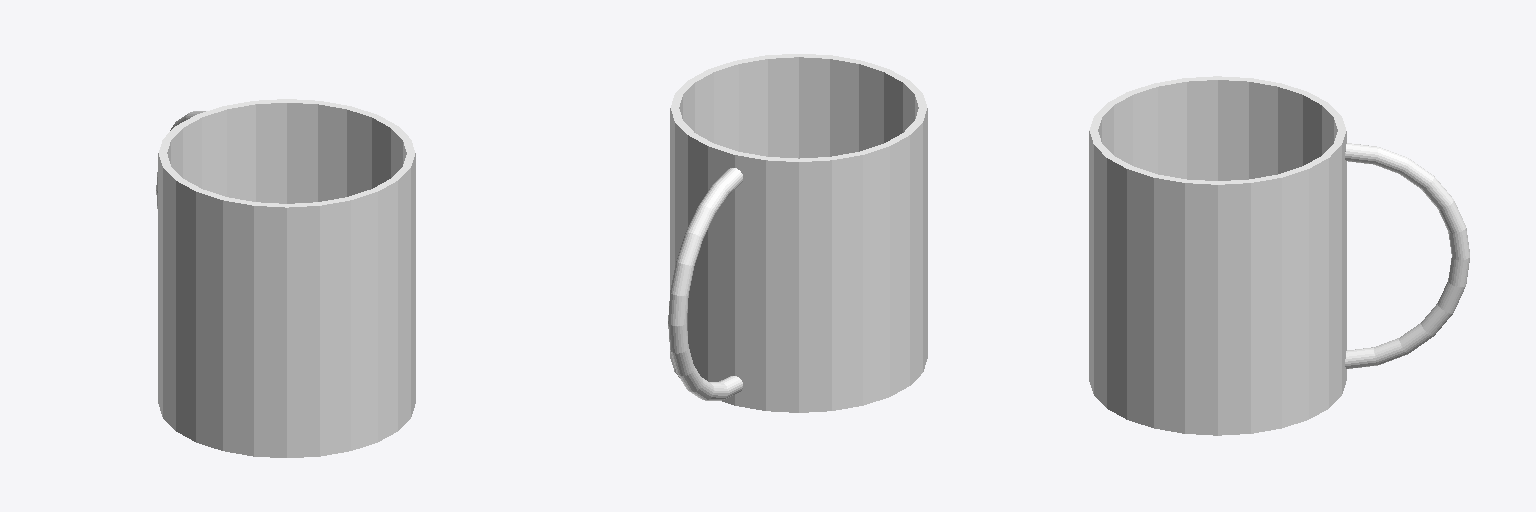
3 renders of one model, left to right at view 1: azimuth 30°, elevation 25°; view 2: azimuth 150°, elevation 25°; view 3: azimuth 270°, elevation 25°, orthographic.
Visible parts, largest first — view 1: SketchUp_ID3.030_material.001, SketchUp.002_ID17.005_material.001; view 2: SketchUp_ID3.030_material.001, SketchUp.002_ID17.005_material.001, SketchUp.001_ID11.014_material.001; view 3: SketchUp_ID3.030_material.001, SketchUp.002_ID17.005_material.001, SketchUp.001_ID11.014_material.001.
Part boxes in pixels (x1,y1,x2,y2): SketchUp_ID3.030_material.001: (158,99,415,457); SketchUp.002_ID17.005_material.001: (167,103,406,203); SketchUp_ID3.030_material.001: (670,54,927,412); SketchUp.002_ID17.005_material.001: (679,57,918,158); SketchUp.001_ID11.014_material.001: (668,168,742,400); SketchUp_ID3.030_material.001: (1089,76,1346,435); SketchUp.002_ID17.005_material.001: (1098,80,1337,180); SketchUp.001_ID11.014_material.001: (1345,143,1469,368).
Bounding box in the file's own units: 0.1208 × 0.13 × 0.1791.